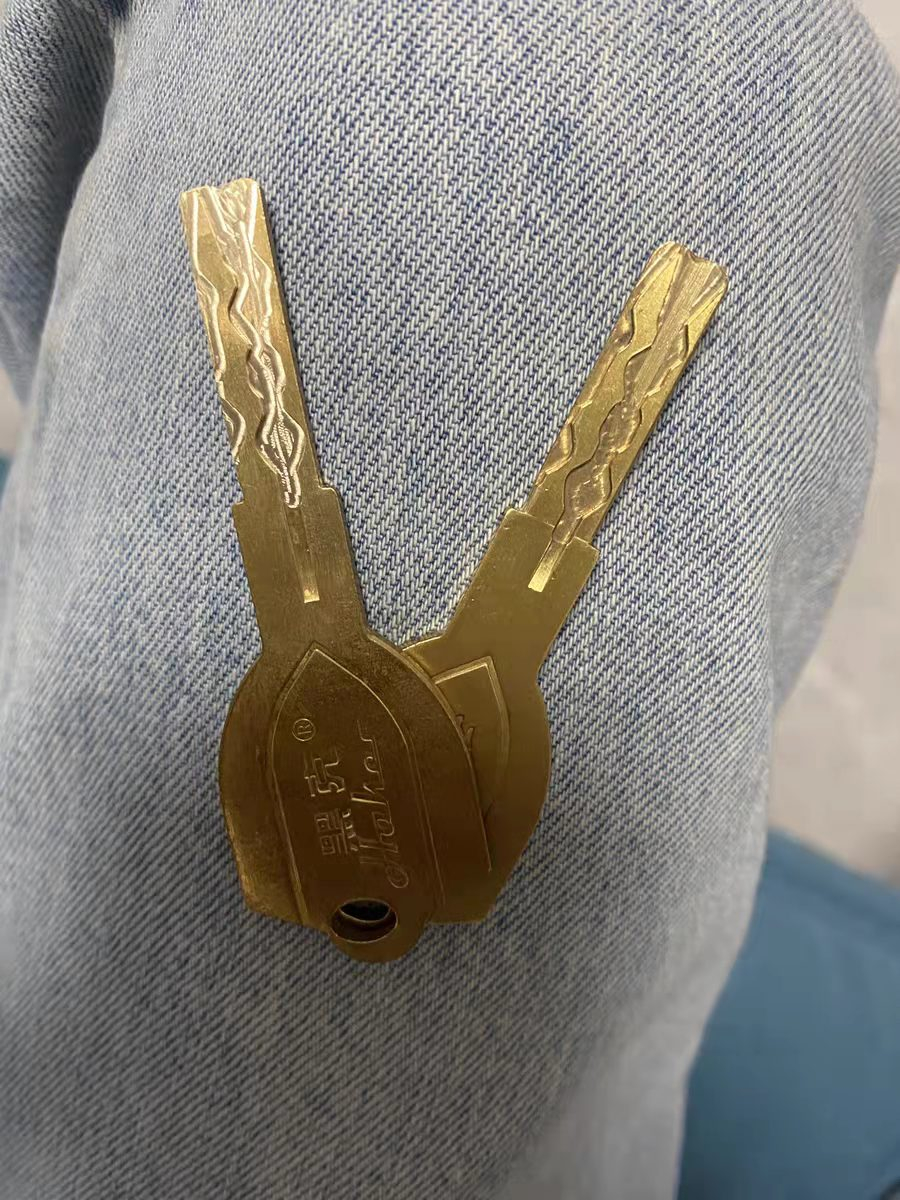key: (281, 247, 729, 919), (174, 164, 511, 966)
